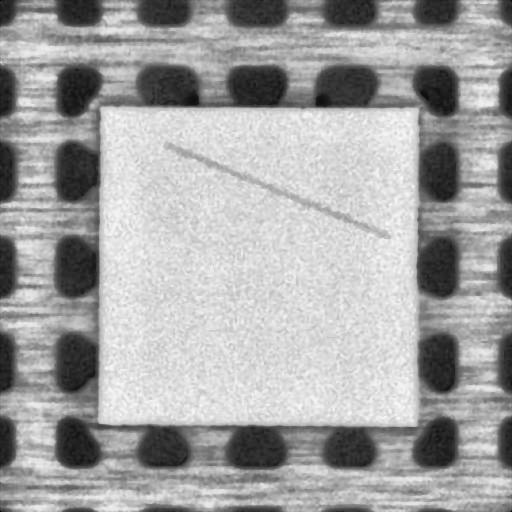DIE_CRACK: (166, 145, 386, 236)
